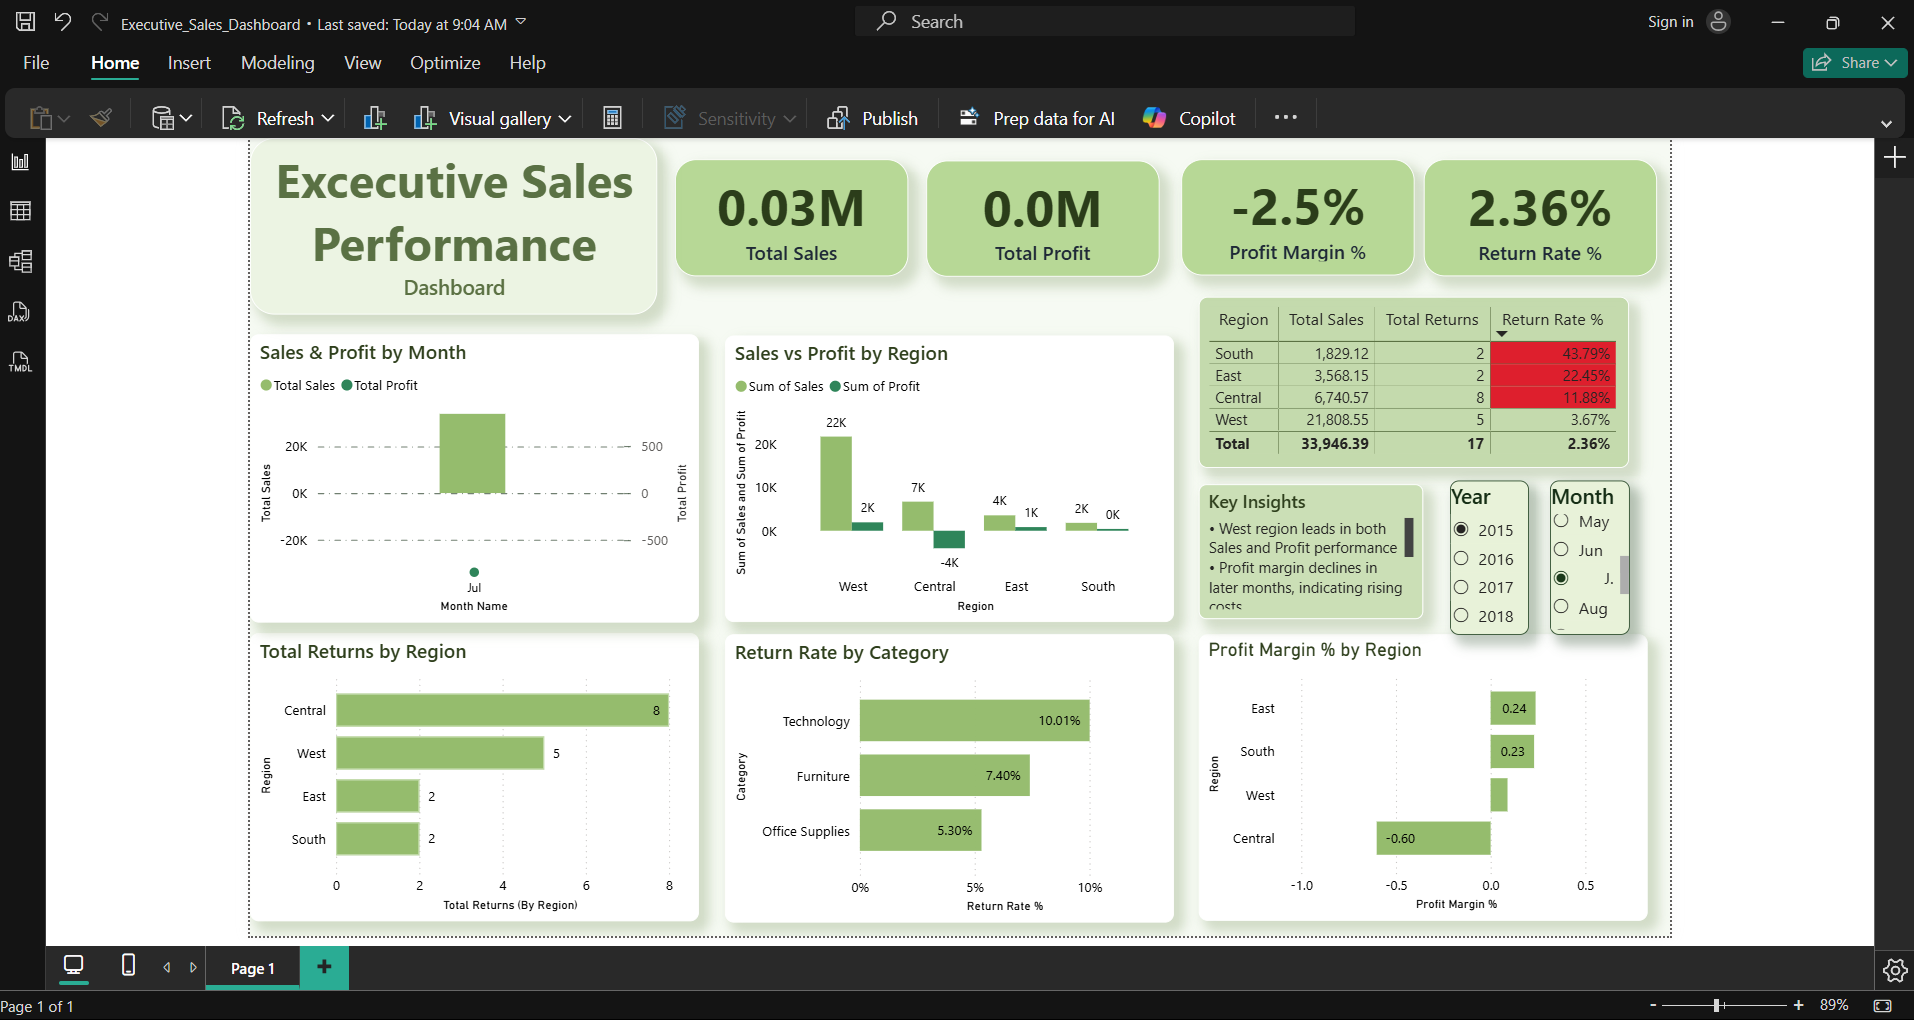

This screenshot's page, from the dashboard's own definition file:
{"tool":"powerbi","page":{"name":"Page 1","canvas":[1280,720],"ordinal":0},"visuals":[{"type":"clusteredBarChart","title":"Total Returns by Region","fields":{"Category":["Fact_Sales.Region"],"Y":["Fact_Returns.Total Returns (By Region)"]},"box":[0,446.6,404.9,260.2],"z":0},{"type":"tableEx","fields":{"Values":["Fact_Sales.Region","Dim_RegionManager.Total Sales","Dim_RegionManager.Total Returns","Dim_RegionManager.Return Rate %"]},"box":[855.8,143.1,388.1,154.3],"z":1000},{"type":"card","title":"Total Sales","fields":{"Values":["Dim_RegionManager.Total Sales"]},"box":[383.1,18.7,210.2,105.7],"z":2000},{"type":"card","title":"Total Profit","fields":{"Values":["Fact_Sales.Total Profit"]},"box":[609.5,19.9,210.2,104.5],"z":3000},{"type":"card","title":"Profit Margin","fields":{"Values":["Fact_Sales.Profit Margin %"]},"box":[839.7,18.7,210.2,104.5],"z":4000},{"type":"card","title":"Return Rate","fields":{"Values":["Dim_RegionManager.Return Rate %"]},"box":[1058.6,18.7,210.2,105.7],"z":5000},{"type":"clusteredColumnChart","title":"Sales vs Profit by Region","fields":{"Category":["Fact_Sales.Region"],"Y":["Sum(Fact_Sales.Sales)","Sum(Fact_Sales.Profit)"]},"box":[428.5,178.1,404.9,258.8],"z":8000},{"type":"clusteredBarChart","title":"Return Rate by Category","fields":{"Category":["Fact_Sales.Category"],"Y":["Dim_RegionManager.Return Rate %"]},"box":[428.5,448,404.9,260.2],"z":9000},{"type":"lineClusteredColumnComboChart","title":"Sales & Profit by Month","fields":{"Category":["Dim_Date.Month Name"],"Y":["Dim_RegionManager.Total Sales"],"Y2":["Fact_Sales.Total Profit"]},"box":[0,176.7,404.9,260.2],"z":10000},{"type":"textbox","title":"Excecutive Sales Performance ","box":[0,0,367,159.2],"z":11000},{"type":"clusteredBarChart","fields":{"Y":["Fact_Sales.Profit Margin %"],"Category":["Fact_Sales.Region"]},"box":[855.7,448,404.9,258.8],"z":13000},{"type":"textbox","title":"Key Insights","box":[855.8,312.2,202.8,121.9],"z":14000},{"type":"listSlicer","fields":{"Values":["Dim_Date.Year"]},"box":[1082.2,308.5,70.9,139.3],"z":14001},{"type":"listSlicer","title":"Month ","fields":{"Values":["Dim_Date.Month Name"]},"box":[1171.8,308.5,72.1,139.3],"z":14002}]}

Visuals, with their boxes on the page's 1280x720 design canvas (x1, y1, x2, y2). These are canvas units, not pixel positions in the 1914x1020 screenshot, which may show the page scaled, cropped or inside an application window:
"Total Returns by Region" clusteredBarChart: [0,447,405,707]
tableEx - Fact_Sales.Region x Dim_RegionManager.Total Sales: [856,143,1244,297]
"Total Sales" card: [383,19,593,124]
"Total Profit" card: [610,20,820,124]
"Profit Margin" card: [840,19,1050,123]
"Return Rate" card: [1059,19,1269,124]
"Sales vs Profit by Region" clusteredColumnChart: [428,178,833,437]
"Return Rate by Category" clusteredBarChart: [428,448,833,708]
"Sales & Profit by Month" lineClusteredColumnComboChart: [0,177,405,437]
"Excecutive Sales Performance " textbox: [0,0,367,159]
clusteredBarChart - Fact_Sales.Profit Margin % x Fact_Sales.Region: [856,448,1261,707]
"Key Insights" textbox: [856,312,1059,434]
listSlicer - Dim_Date.Year: [1082,308,1153,448]
"Month " listSlicer: [1172,308,1244,448]
